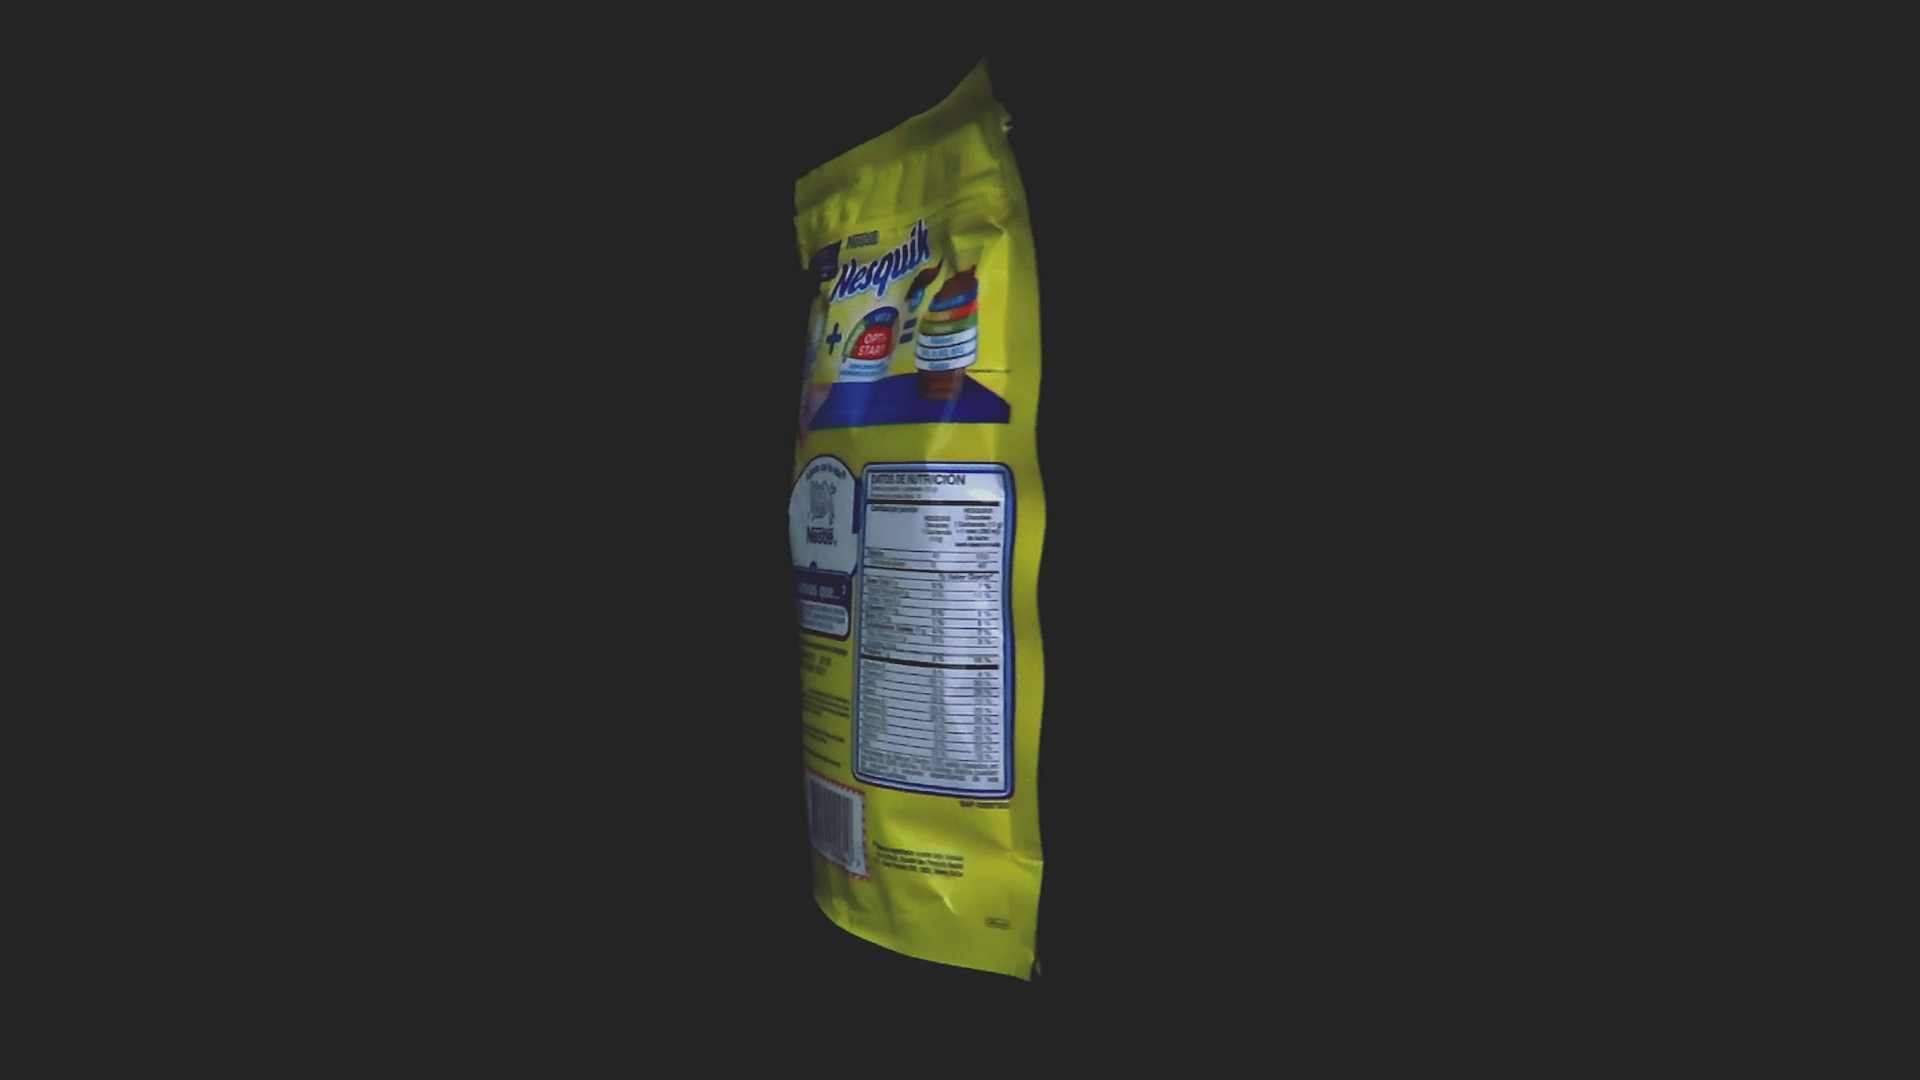COL0170303DYP20000: (783, 57, 1052, 986)
